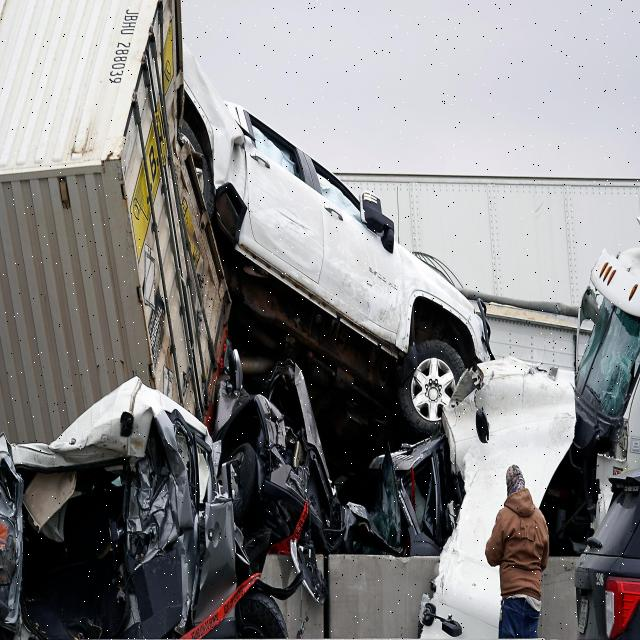severe: (0, 0, 493, 563)
